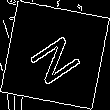N_NE: (23, 24, 87, 86)
